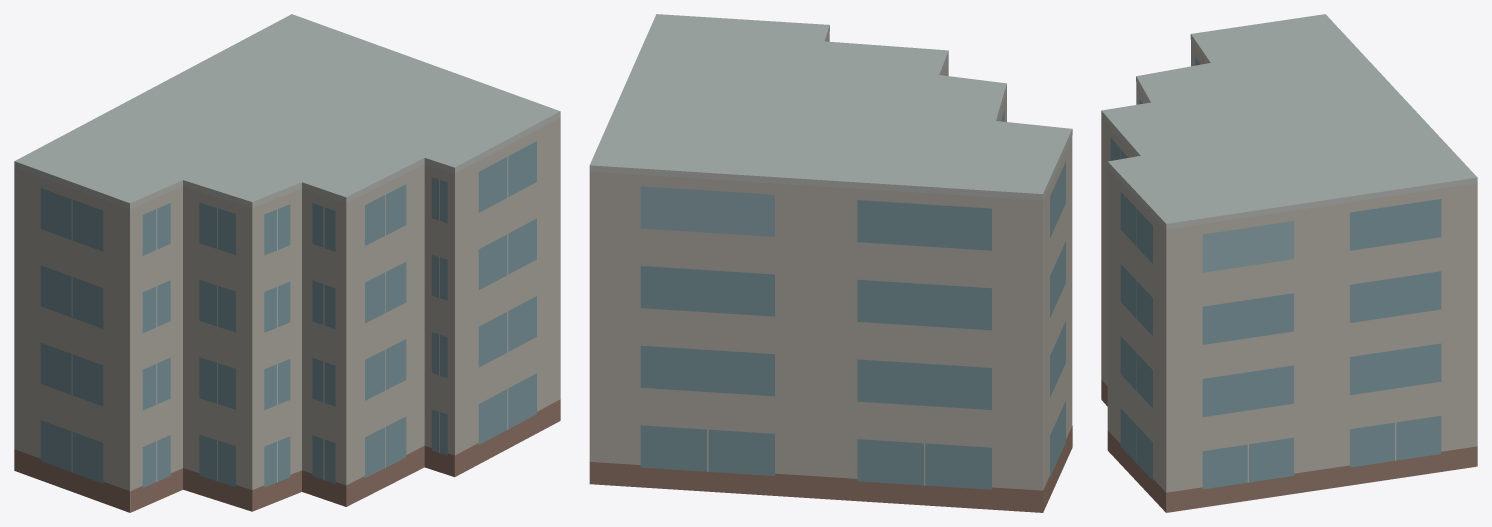
Rendered from survey-upis-32851250.glb.
3 renders of one model, left to right at view 1: azimuth 30°, elevation 25°; view 2: azimuth 150°, elevation 25°; view 3: azimuth 270°, elevation 25°, orthographic. The views are drawn at different scales.
Visible parts, largest first — view 1: survey-upis-32851250.tmp; view 2: survey-upis-32851250.tmp; view 3: survey-upis-32851250.tmp.
Part boxes in pixels (left/top/right/bottom): survey-upis-32851250.tmp: left=14, top=14, right=560, bottom=512; survey-upis-32851250.tmp: left=589, top=14, right=1072, bottom=512; survey-upis-32851250.tmp: left=1101, top=14, right=1477, bottom=512.
Size of the model in its own units: 19.32 by 12.4 by 14.64.
